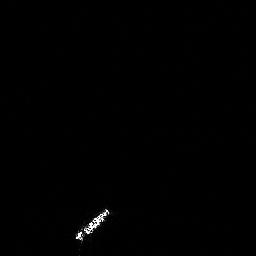ship: (70, 204, 113, 244)
